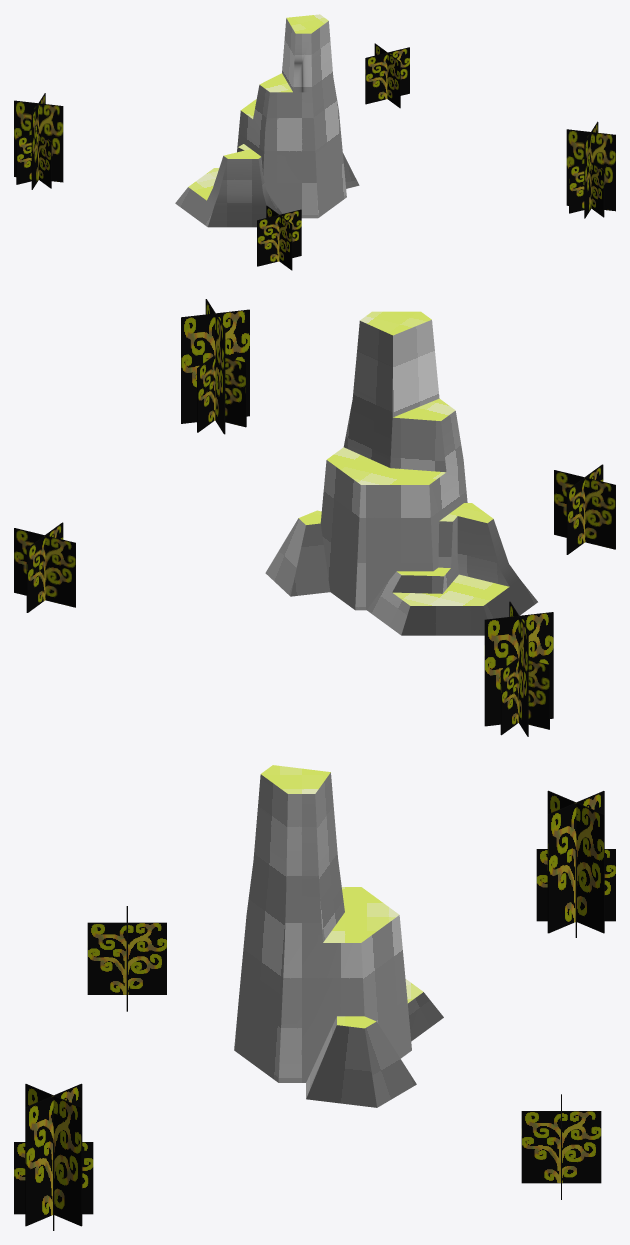
File: Rock4_1.obj
The picture shows the model from 3 angles, top to bottom: view 1: azimuth 30°, elevation 25°; view 2: azimuth 150°, elevation 25°; view 3: azimuth 270°, elevation 25°; orthographic projection. The views are drawn at different scales.
Visible parts, largest first — view 1: rock_tall1, big_Cube.005, big2_Cube.007, minus.001_Cube.008, minus_Cube.001; view 2: rock_tall1, big2_Cube.007, big_Cube.005, minus_Cube.001, minus.001_Cube.008; view 3: rock_tall1, big_Cube.005, big2_Cube.007, minus_Cube.001, minus.001_Cube.008.
Part boxes in pixels (x1=…): rock_tall1: x1=175, y1=14, x2=359, y2=227; big_Cube.005: x1=566, y1=121, x2=615, y2=218; big2_Cube.007: x1=14, y1=93, x2=63, y2=189; minus.001_Cube.008: x1=257, y1=205, x2=301, y2=270; minus_Cube.001: x1=365, y1=43, x2=409, y2=108; rock_tall1: x1=265, y1=311, x2=537, y2=635; big2_Cube.007: x1=484, y1=601, x2=553, y2=736; big_Cube.005: x1=181, y1=299, x2=249, y2=434; minus_Cube.001: x1=14, y1=522, x2=75, y2=612; minus.001_Cube.008: x1=554, y1=464, x2=615, y2=554; rock_tall1: x1=234, y1=765, x2=443, y2=1107; big_Cube.005: x1=14, y1=1083, x2=93, y2=1230; big2_Cube.007: x1=536, y1=790, x2=615, y2=937; minus_Cube.001: x1=521, y1=1094, x2=601, y2=1199; minus.001_Cube.008: x1=87, y1=906, x2=166, y2=1011.
Bounding box in the file's own units: 63.28 × 25.11 × 49.31.
2 materials, 2 textured.
